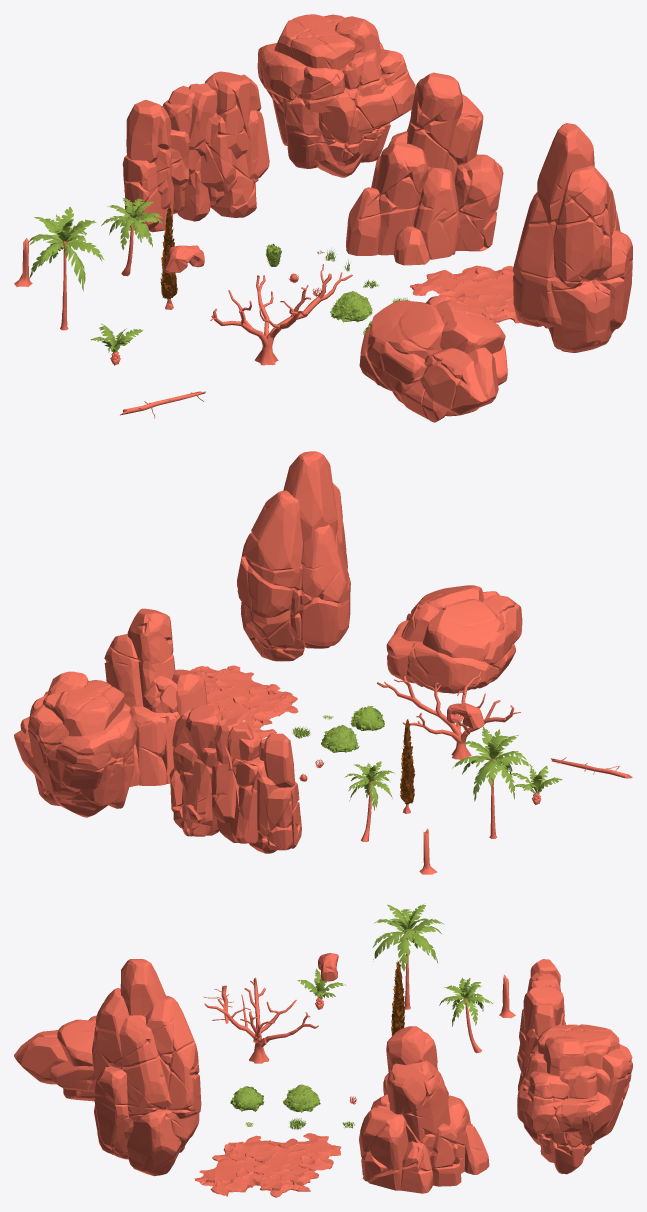
File: SomeModels.fbx
3 renders of one model, top to bottom at view 1: azimuth 30°, elevation 25°; view 2: azimuth 150°, elevation 25°; view 3: azimuth 270°, elevation 25°, orthographic. The views are drawn at different scales.
Visible parts, largest first — view 1: rock-generic-large-f, rock-generic-large-e, rock-generic-large-c, rock-generic-large-d, rock-generic-large-a, ground-rock-sandstone-cracked, tree-palm-coconut-generic-mature-a, tree-acacia-senegal-dry-dead-a, tree-palm-coconut-generic-mature-b, bush-blackberry-eurasian-dry-mature-b, tree-cypress-mediterranean-dry-mature-a, rock-sea-medium-tunnel-a (+1 smaller); view 2: rock-generic-large-e, rock-generic-large-d, rock-generic-large-c, rock-generic-large-a, rock-generic-large-f, ground-rock-sandstone-cracked, tree-palm-coconut-generic-mature-a, tree-acacia-senegal-dry-dead-a, tree-palm-coconut-generic-mature-b, tree-cypress-mediterranean-dry-mature-a, bush-blackberry-eurasian-dry-mature-b, rock-sea-medium-tunnel-a (+2 smaller); view 3: rock-generic-large-e, rock-generic-large-f, rock-generic-large-c, ground-rock-sandstone-cracked, rock-generic-large-a, rock-generic-large-d, tree-palm-coconut-generic-mature-a, tree-acacia-senegal-dry-dead-a, tree-palm-coconut-generic-mature-b, bush-blackberry-eurasian-dry-mature-b, tree-cypress-mediterranean-dry-mature-a, bush-blackberry-eurasian-dry-mature-a (+2 smaller).
Part boxes in pixels (x1,y1,x2,y2): rock-generic-large-f: (346,72,503,265); rock-generic-large-e: (512,123,632,352); rock-generic-large-c: (257,14,415,177); rock-generic-large-d: (122,71,269,232); rock-generic-large-a: (359,295,507,422); ground-rock-sandstone-cracked: (410,265,520,323); tree-palm-coconut-generic-mature-a: (28,206,104,330); tree-acacia-senegal-dry-dead-a: (210,264,352,365); tree-palm-coconut-generic-mature-b: (101,198,163,276); bush-blackberry-eurasian-dry-mature-b: (330,291,372,322); tree-cypress-mediterranean-dry-mature-a: (160,206,177,309); rock-sea-medium-tunnel-a: (163,245,204,272); rock-generic-large-e: (237,451,350,661); rock-generic-large-d: (169,704,301,853); rock-generic-large-c: (14,671,136,817); rock-generic-large-a: (386,585,522,693); rock-generic-large-f: (104,608,207,786); ground-rock-sandstone-cracked: (190,665,298,738); tree-palm-coconut-generic-mature-a: (452,726,532,838); tree-acacia-senegal-dry-dead-a: (377,671,520,759); tree-palm-coconut-generic-mature-b: (344,761,394,842); tree-cypress-mediterranean-dry-mature-a: (400,719,415,813); bush-blackberry-eurasian-dry-mature-b: (321,725,359,752); rock-sea-medium-tunnel-a: (447,703,484,728); rock-generic-large-e: (92,959,201,1176); rock-generic-large-f: (359,1026,489,1193); rock-generic-large-c: (517,1024,632,1174); ground-rock-sandstone-cracked: (194,1133,341,1197); rock-generic-large-a: (14,1015,96,1101); rock-generic-large-d: (517,959,565,1090); tree-palm-coconut-generic-mature-a: (372,904,444,1009); tree-acacia-senegal-dry-dead-a: (204,977,318,1063); tree-palm-coconut-generic-mature-b: (439,978,493,1053); bush-blackberry-eurasian-dry-mature-b: (283,1084,320,1112); tree-cypress-mediterranean-dry-mature-a: (391,961,404,1035); bush-blackberry-eurasian-dry-mature-a: (230,1086,264,1111).
Size of the model in its own units: 39 by 17.22 by 48.27.
